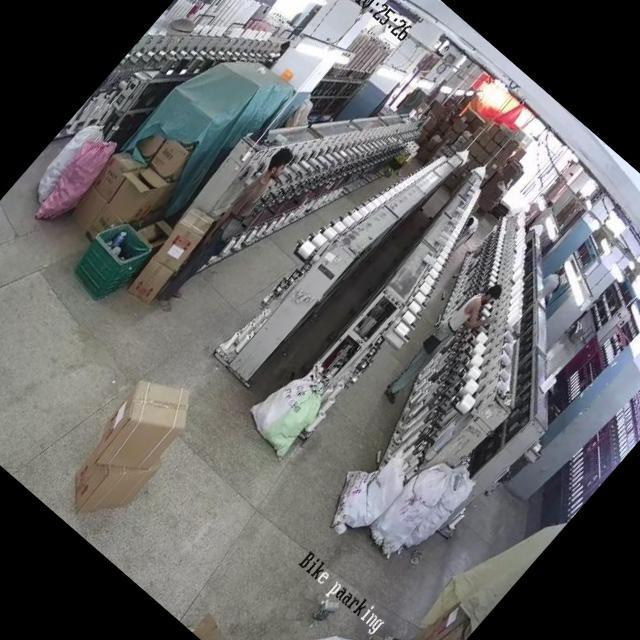person: (146, 142, 302, 316), (383, 270, 506, 406), (449, 211, 488, 253), (543, 264, 569, 290)
